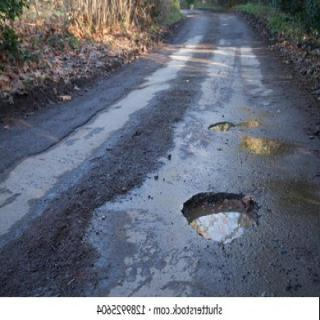pothole: (180, 191, 262, 255)
